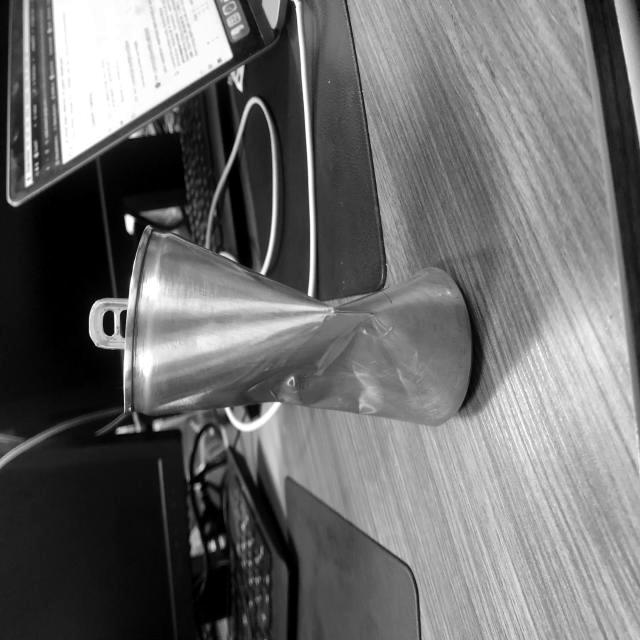deform: (140, 315, 439, 420), (166, 244, 423, 313)
metal: (83, 218, 489, 433)
